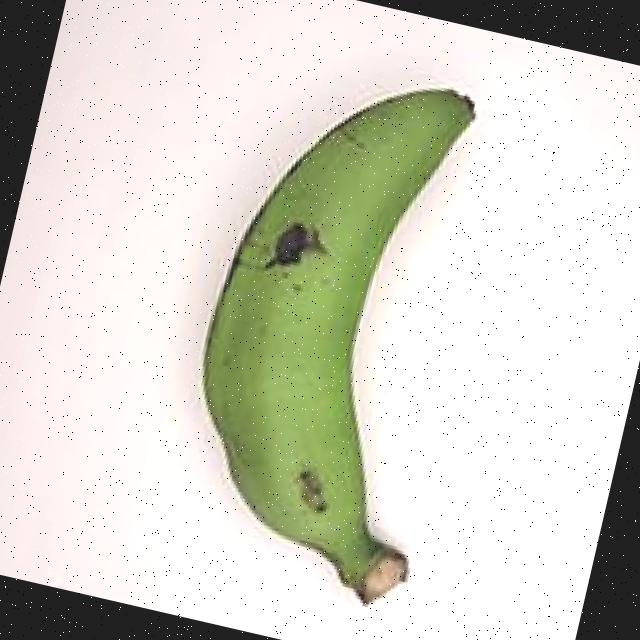Raw: (120, 10, 545, 640)
